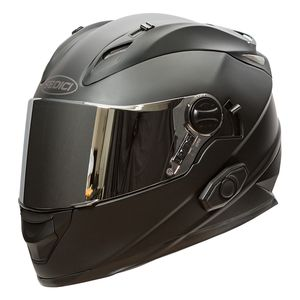with_helmet: (13, 9, 282, 290)
